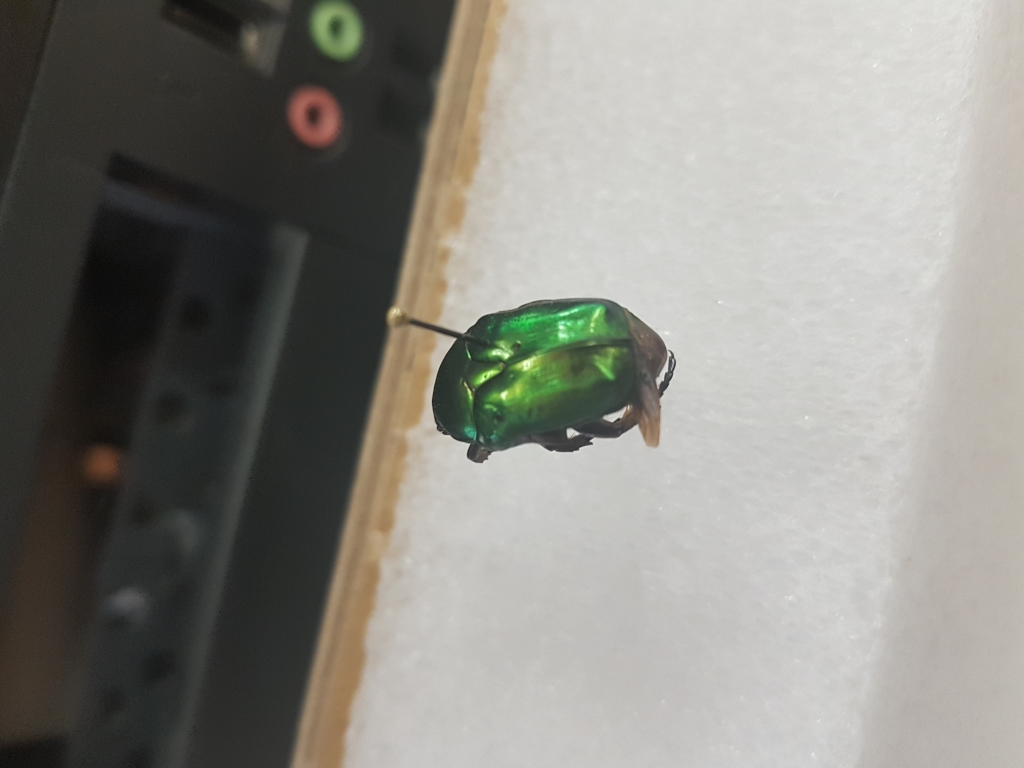Protaetia_cuprea_ignicollis: (430, 296, 681, 466)
